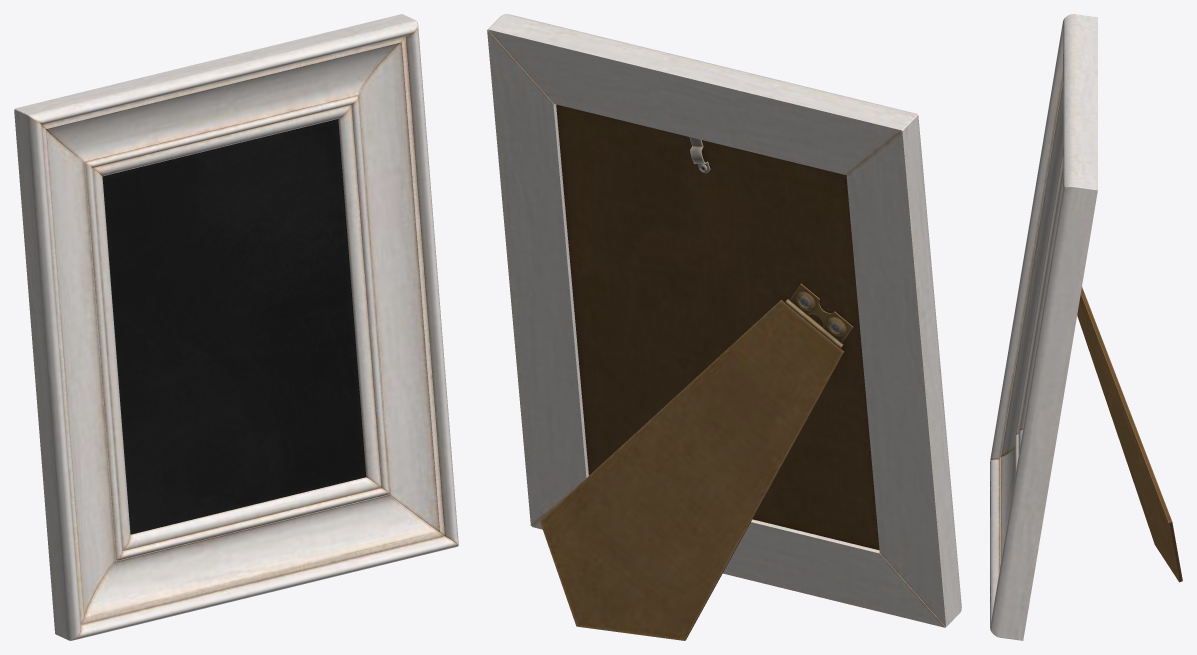
File: frame-white.glb
The picture shows the model from 3 angles, left to right: view 1: azimuth 30°, elevation 25°; view 2: azimuth 150°, elevation 25°; view 3: azimuth 270°, elevation 25°; orthographic projection. The views are drawn at different scales.
Visible parts, largest first — view 1: standing_picture_frame_02; view 2: standing_picture_frame_02; view 3: standing_picture_frame_02.
Boxes of the visible parts, x1=… form: standing_picture_frame_02: x1=14, y1=14, x2=458, y2=640; standing_picture_frame_02: x1=487, y1=14, x2=961, y2=640; standing_picture_frame_02: x1=990, y1=14, x2=1182, y2=640.
Size of the model in its own units: 0.2169 by 0.2664 by 0.1023.
3 materials, 3 textured.
